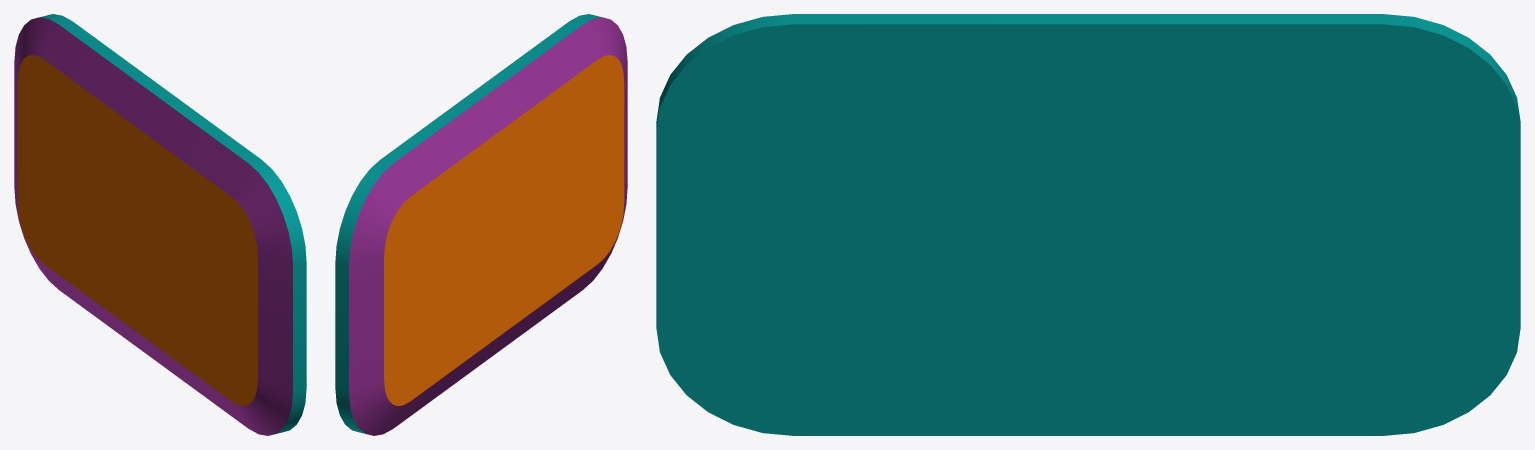
File: House_48.fbx
3 views of the same model, side by side, from view 1: azimuth 30°, elevation 25°; view 2: azimuth 150°, elevation 25°; view 3: azimuth 270°, elevation 25° (orthographic). The views are drawn at different scales.
Parts seen in each view (by area): view 1: House_48; view 2: House_48; view 3: House_48.
Part boxes in pixels (box(x1,y1,x2,y2)): House_48: box(14, 14, 306, 435); House_48: box(335, 14, 627, 435); House_48: box(656, 14, 1520, 435).
Size of the model in its own units: 4.47 by 38.54 by 73.34.
